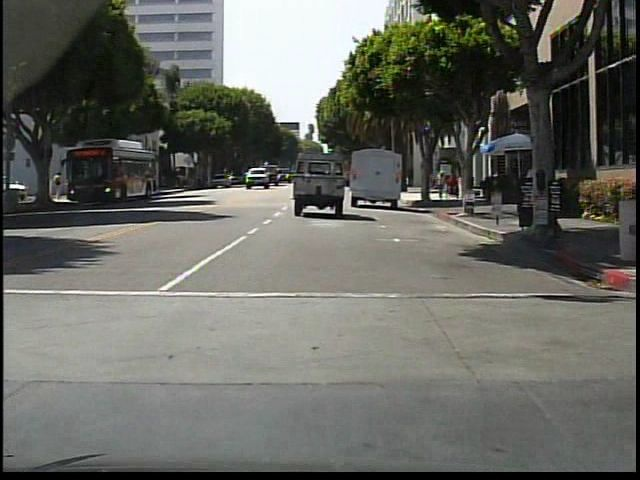person: (427, 167, 436, 201), (436, 170, 446, 199), (55, 172, 64, 199)
